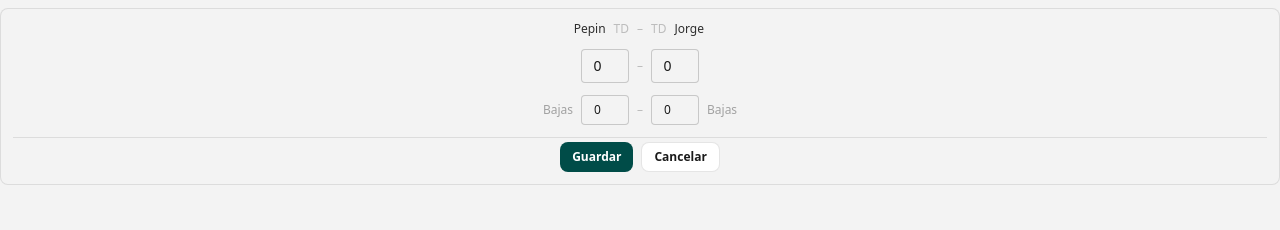
MatchResultForm › muestra error si la API falla
Click the button "Guardar".
click(597, 157)  # box [560,142,633,172]
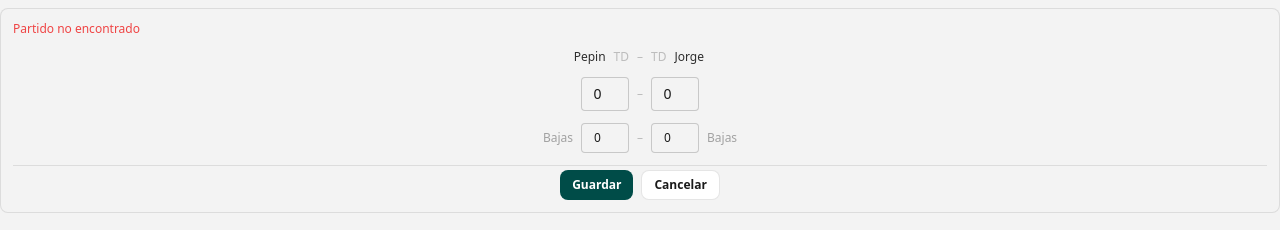
Now the text "Partido no encontrado" is shown, box [13,20,140,37]
